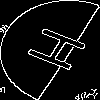H: (24, 25, 100, 78)
